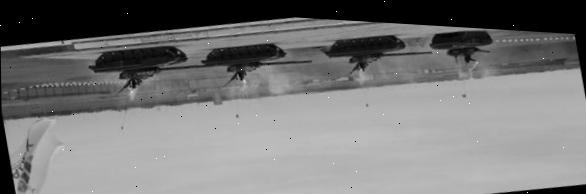tank: (83, 31, 221, 107), (197, 31, 316, 95), (317, 21, 435, 85), (426, 25, 495, 69)
